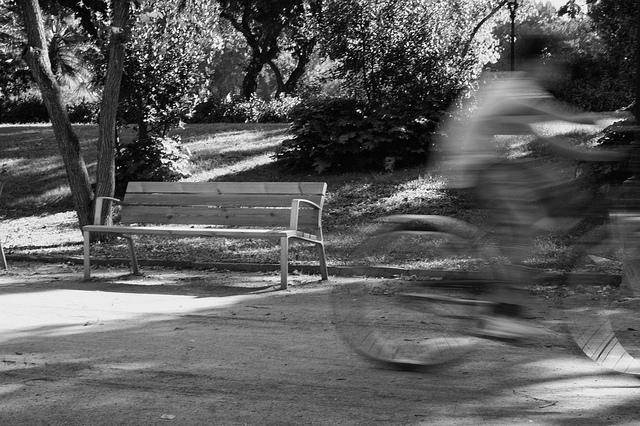bicycle: (327, 120, 640, 381), (529, 274, 551, 286)
